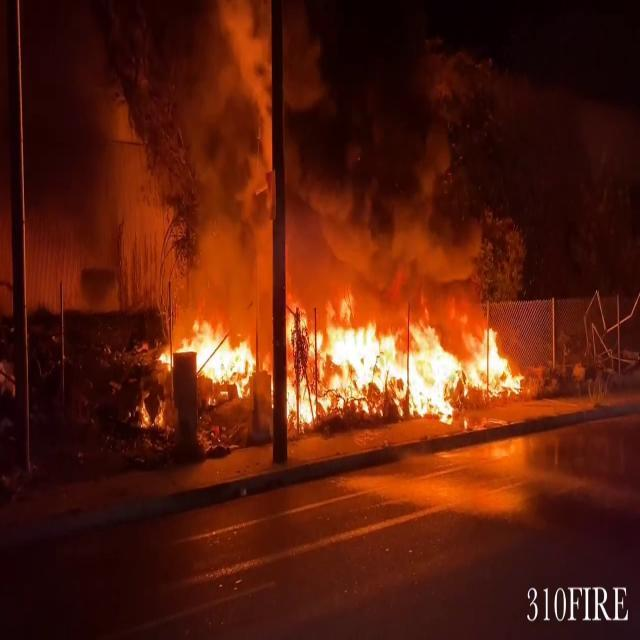Fire: (280, 280, 528, 426), (172, 312, 260, 395)
Smoke: (7, 0, 470, 292)
